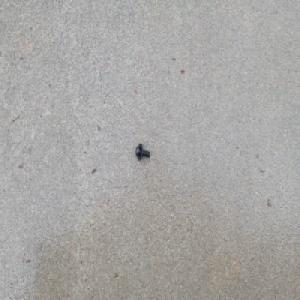BoltWasher: (134, 142, 150, 161)
